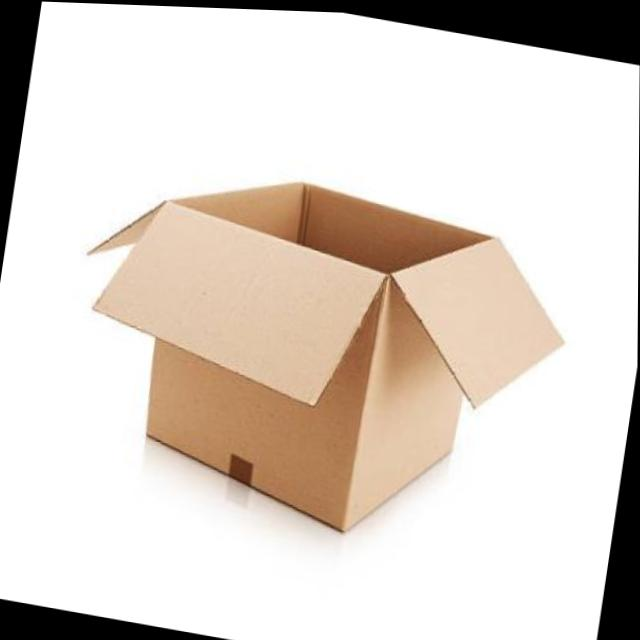box: (37, 130, 591, 605)
